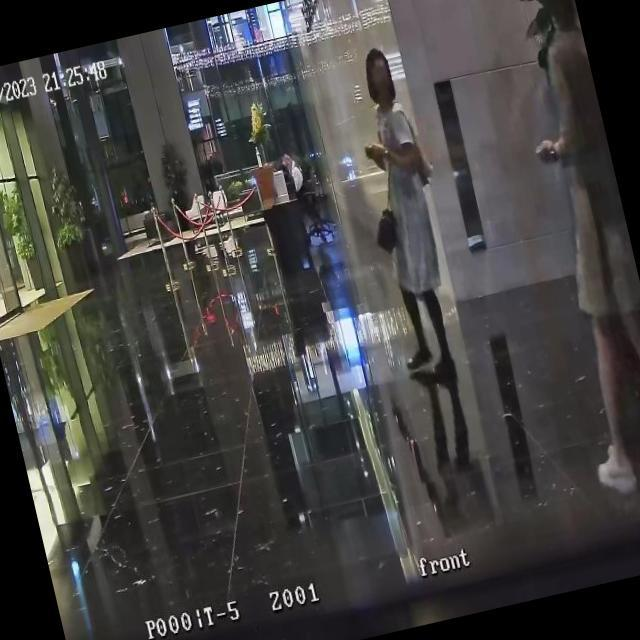person: (479, 0, 640, 501), (335, 40, 478, 388), (280, 150, 314, 208)
